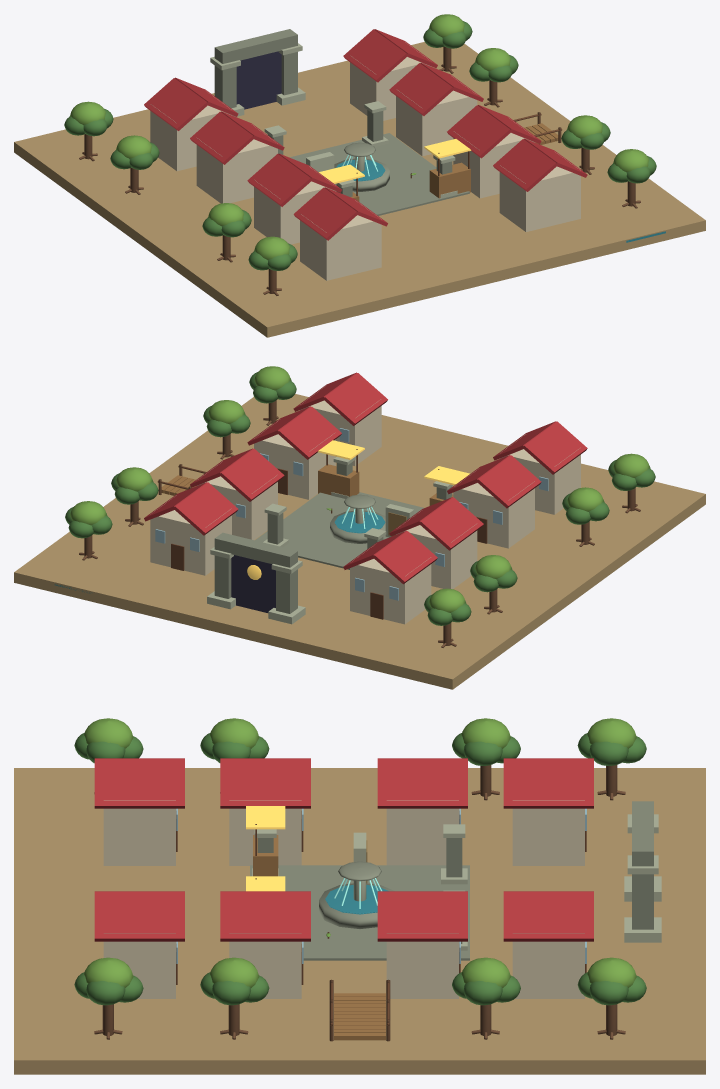
File: lumenfall_restored.glb
3 renders of one model, top to bottom at view 1: azimuth 30°, elevation 25°; view 2: azimuth 150°, elevation 25°; view 3: azimuth 270°, elevation 25°, orthographic. The views are drawn at different scales.
Parts seen in each view (by area): view 1: ground, walls (×8), roof (×16), canopy_0 (×8), square, door, lintel, column (×2), canopy (×2), counter, basin; view 2: ground, walls (×8), roof (×16), canopy_0 (×8), square, door, column (×2), lintel, canopy (×2), counter, water, basin; view 3: ground, roof (×8), walls (×8), canopy_0 (×8), square, canopy_2 (×8), column (×2), canopy (×2), lintel, basin, water, counter (+2 smaller).
Boxes of the visible parts, <box> form: ground: <box>14,42,705,337</box>; walls (×8): <box>150,42,580,280</box>; roof (×16): <box>144,29,587,240</box>; canopy_0 (×8): <box>70,14,648,259</box>; square: <box>289,133,469,215</box>; door: <box>236,51,281,109</box>; lintel: <box>214,29,297,63</box>; column (×2): <box>214,52,297,108</box>; canopy (×2): <box>319,139,471,183</box>; counter: <box>429,162,470,198</box>; basin: <box>334,158,389,191</box>; ground: <box>14,394,705,689</box>; walls (×8): <box>150,387,580,624</box>; roof (×16): <box>144,372,587,584</box>; canopy_0 (×8): <box>70,366,649,612</box>; square: <box>255,492,423,569</box>; door: <box>231,555,275,612</box>; column (×2): <box>214,555,297,613</box>; lintel: <box>214,532,297,567</box>; canopy (×2): <box>318,440,469,485</box>; counter: <box>318,464,359,496</box>; water: <box>334,512,385,533</box>; basin: <box>330,510,385,543</box>; ground: <box>14,768,705,1074</box>; roof (×8): <box>94,759,593,941</box>; walls (×8): <box>103,800,584,998</box>; canopy_0 (×8): <box>84,718,636,987</box>; square: <box>250,865,469,960</box>; canopy_2 (×8): <box>86,741,628,1005</box>; column (×2): <box>446,838,653,929</box>; canopy (×2): <box>246,806,285,891</box>; lintel: <box>632,801,653,866</box>; basin: <box>319,883,394,928</box>; water: <box>325,885,388,914</box>; counter: <box>253,835,278,876</box>.
Bounding box in the file's own units: 22 × 3.62 × 22.
